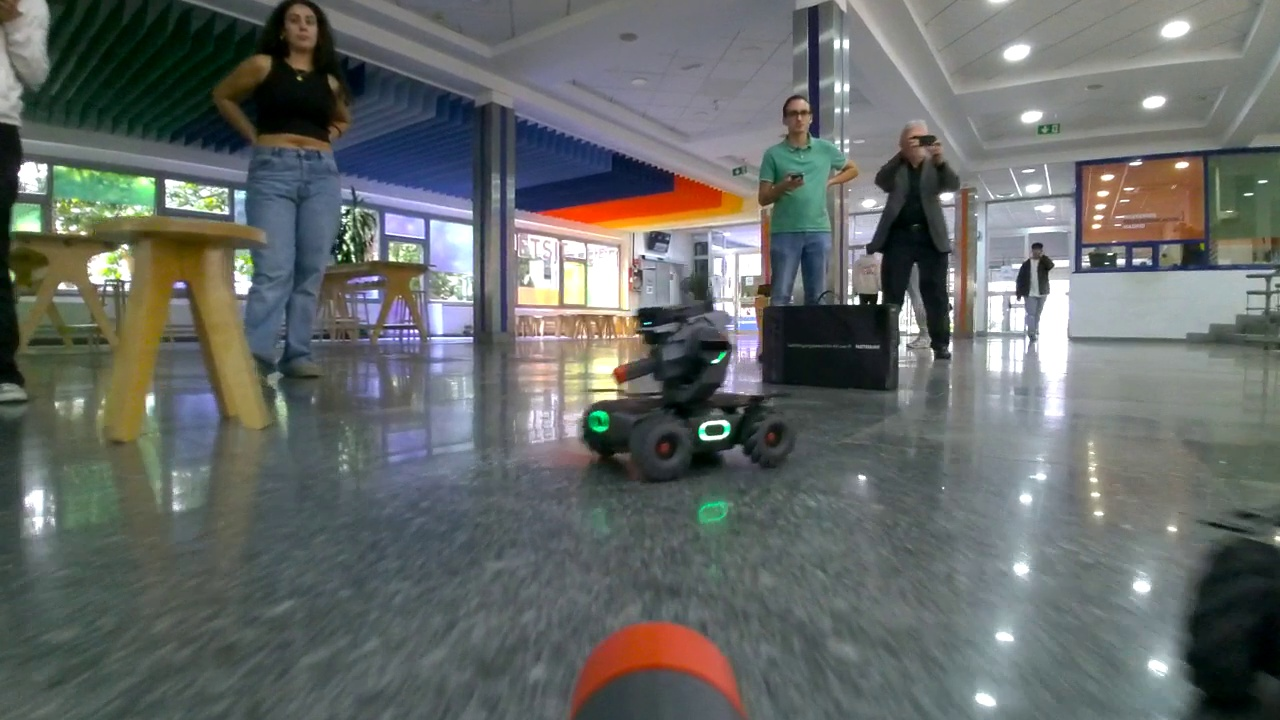robot: (580, 303, 798, 483)
